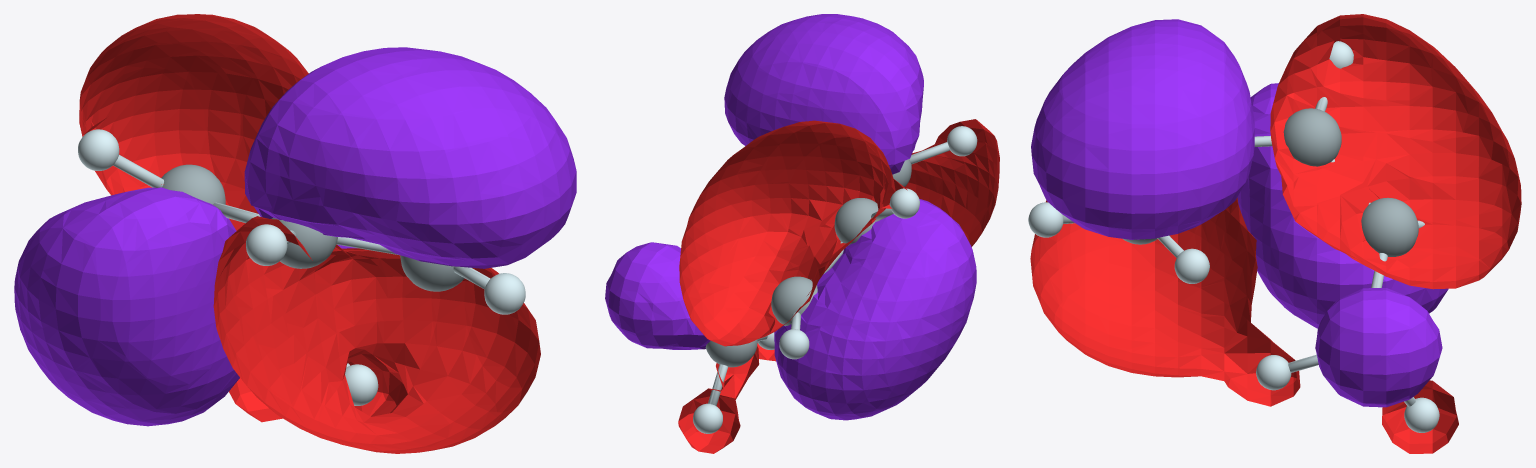
3 views of the same model, side by side, from view 1: azimuth 30°, elevation 25°; view 2: azimuth 150°, elevation 25°; view 3: azimuth 270°, elevation 25° (orthographic). The views are drawn at different scales.
Parts seen in each view (by area): view 1: Renderer Node; view 2: Renderer Node; view 3: Renderer Node.
Part boxes in pixels (box(x1,y1,x2,y2)): Renderer Node: box(14, 14, 576, 453); Renderer Node: box(605, 14, 999, 453); Renderer Node: box(1028, 14, 1521, 453).
Bounding box in the file's own units: 4.95 × 5.02 × 5.57.
